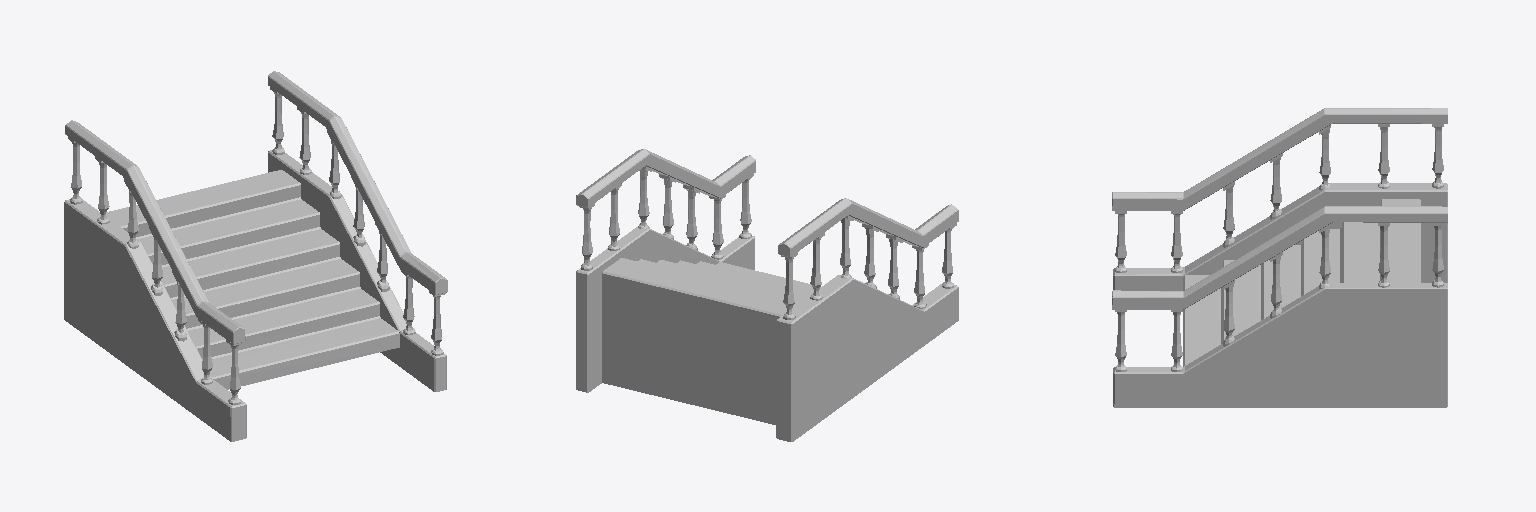
The picture shows the model from 3 angles: view 1: azimuth 30°, elevation 25°; view 2: azimuth 150°, elevation 25°; view 3: azimuth 270°, elevation 25°; orthographic projection.
Parts seen in each view (by area): view 1: steps1; view 2: steps1; view 3: steps1.
Part boxes in pixels (left/top/right/bottom): steps1: left=64, top=71, right=447, bottom=441; steps1: left=576, top=149, right=958, bottom=441; steps1: left=1112, top=108, right=1447, bottom=407.
Size of the model in its own units: 15.75 by 13.75 by 21.22.